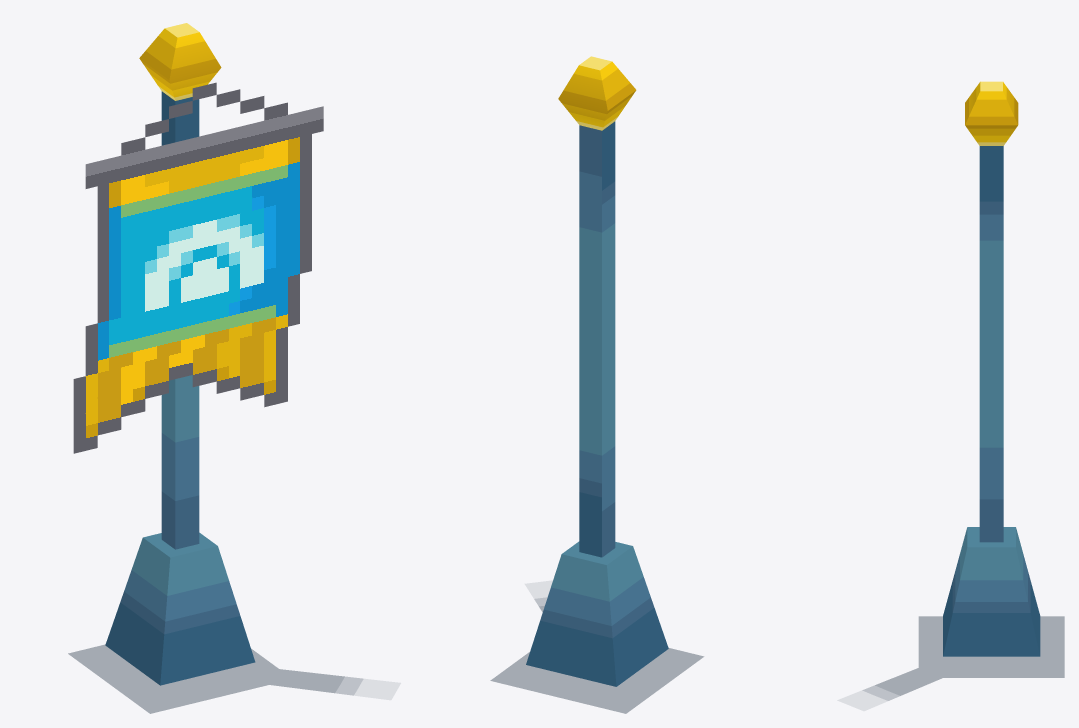
3 renders of one model, left to right at view 1: azimuth 30°, elevation 25°; view 2: azimuth 150°, elevation 25°; view 3: azimuth 270°, elevation 25°, orthographic. The views are drawn at different scales.
Size of the model in its own units: 2 by 3.19 by 1.2.
2 materials, 2 textured.
